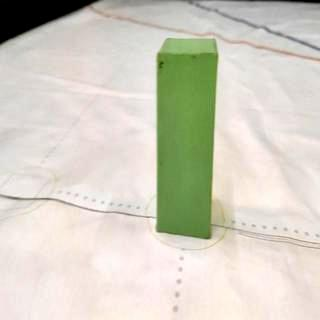greenbox: (156, 36, 220, 242)
